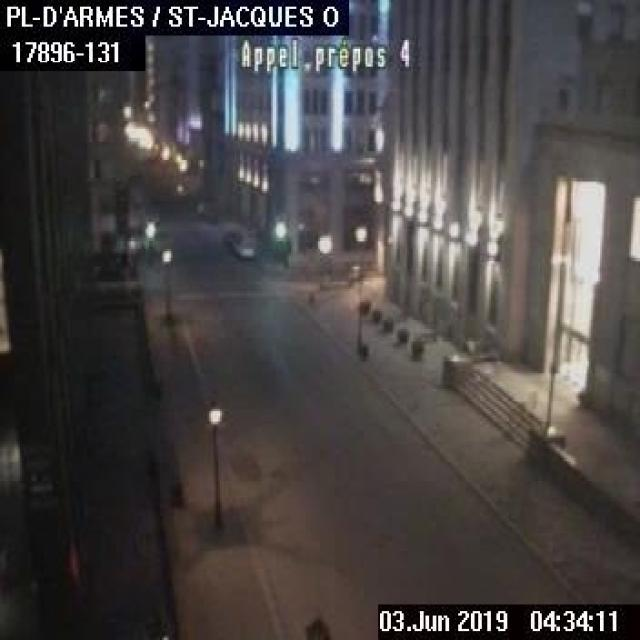vehicle: (233, 237, 255, 257)
